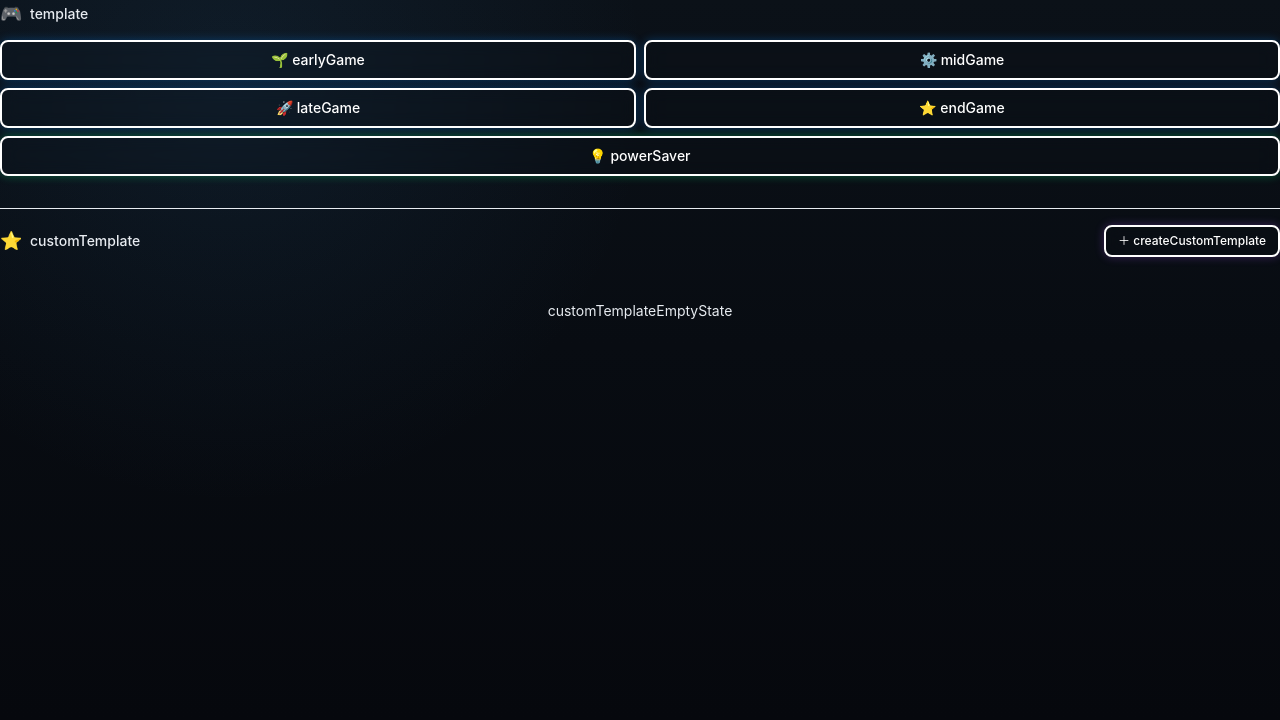
Scenario: TemplateSelector › Confirmation Modal › モーダルに設定の詳細が表示される（End Game with stacked belts）
What coordinates should you click on to do the following:
click the button "⭐endGame"
I would click on:
 (962, 108)
Its box is [644,88,1279,128].
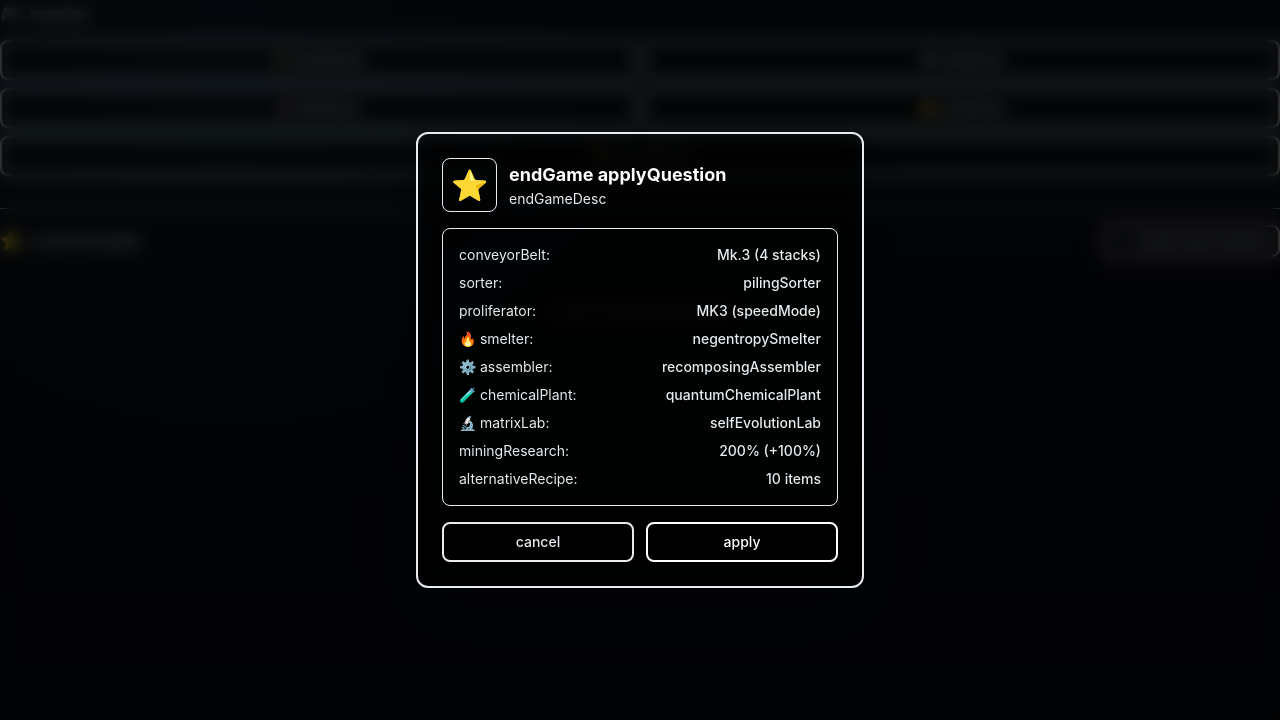
Check: the text "Mk.3 (4 stacks)" is shown, box [717,245,821,265]
Check: the text "pilingSorter" is shown, box [743,273,821,293]
Check: the text "MK3 (speedMode)" is shown, box [696,301,821,321]
